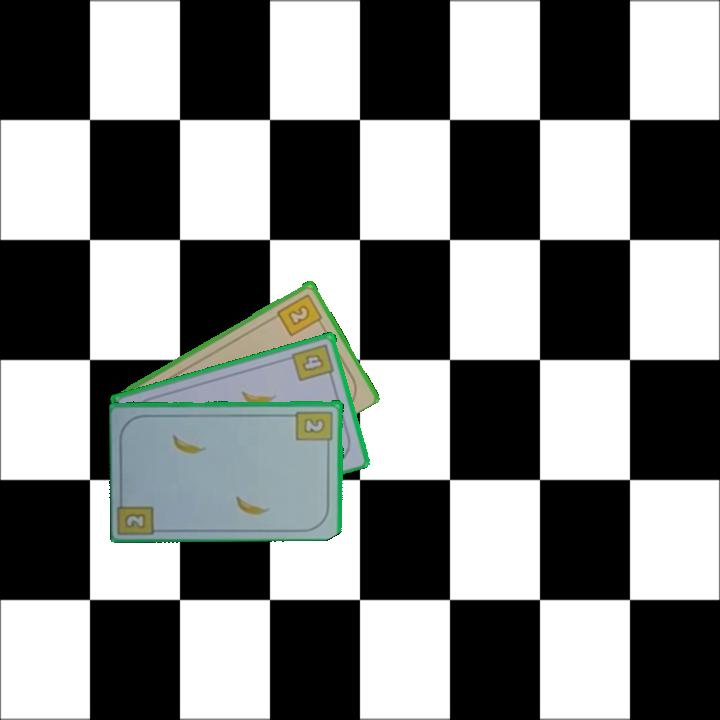2b: (274, 290, 326, 339), (294, 407, 336, 449), (121, 510, 149, 531)
4b: (289, 340, 337, 384)
